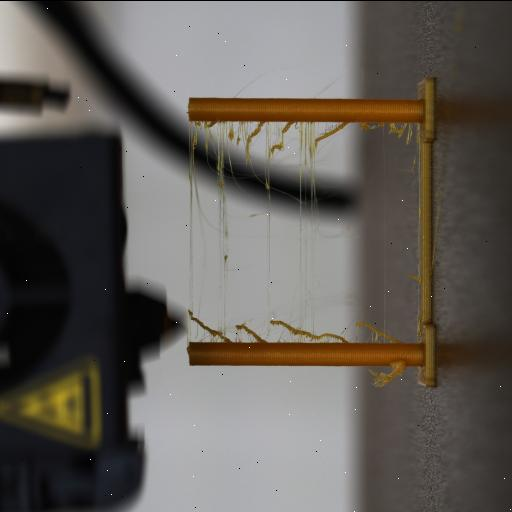stringing: (185, 119, 314, 343)
